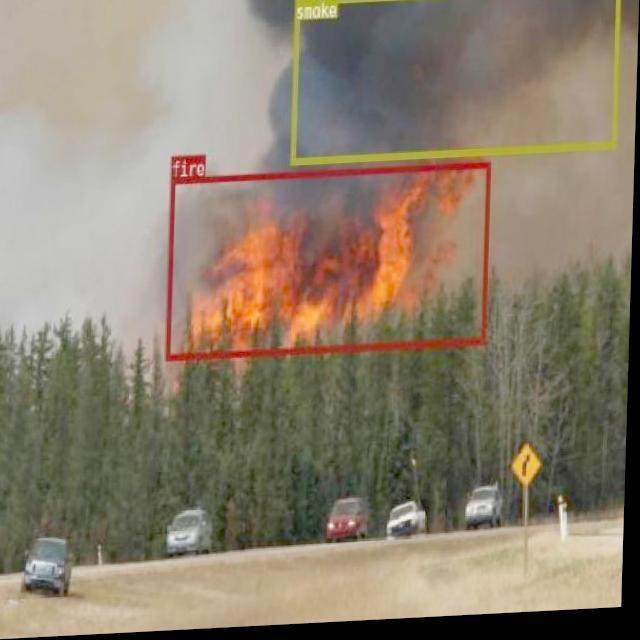Fire: (158, 186, 484, 352)
Smoke: (129, 0, 630, 321), (4, 8, 144, 349)
